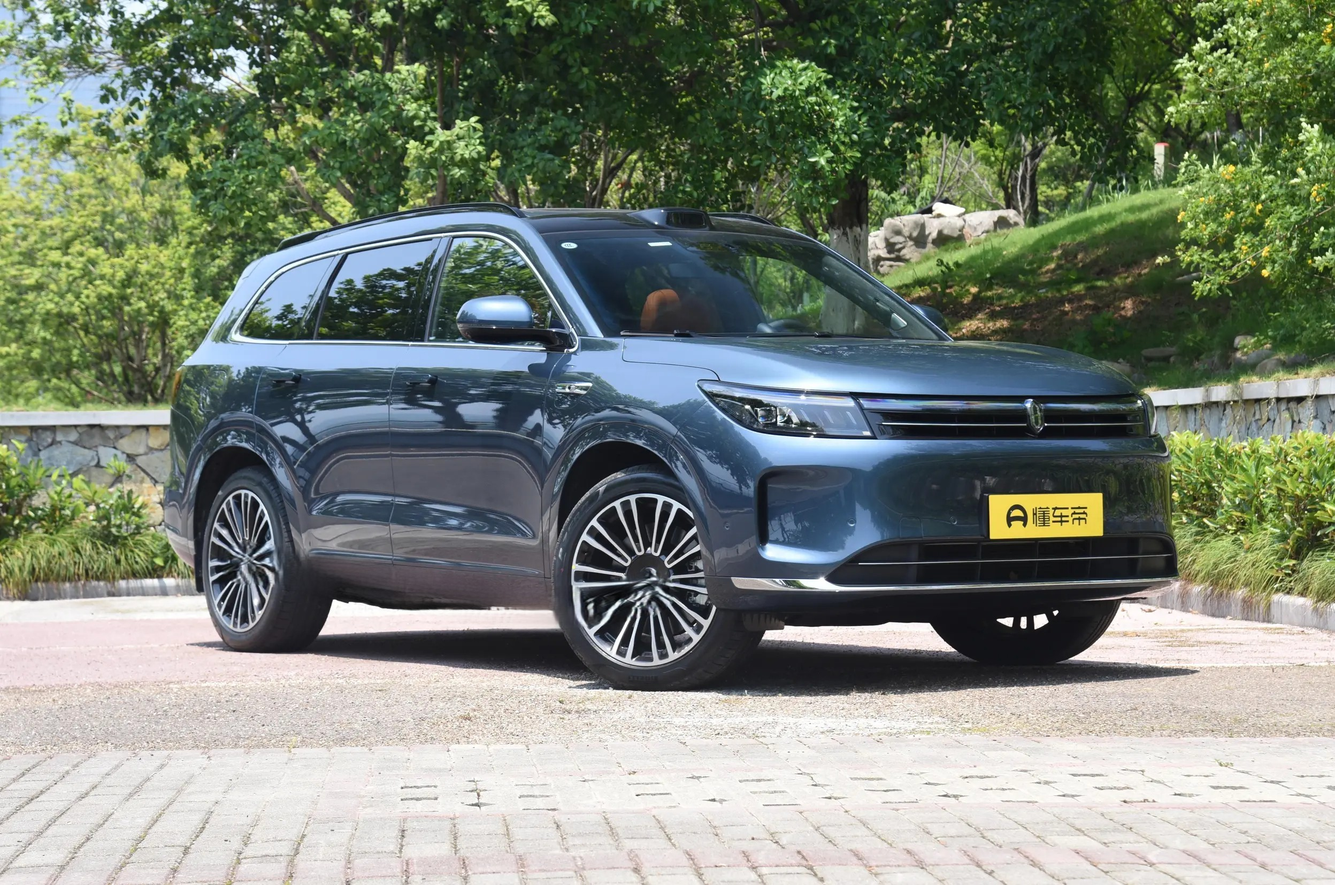AITO: (1031, 403, 1041, 428)
